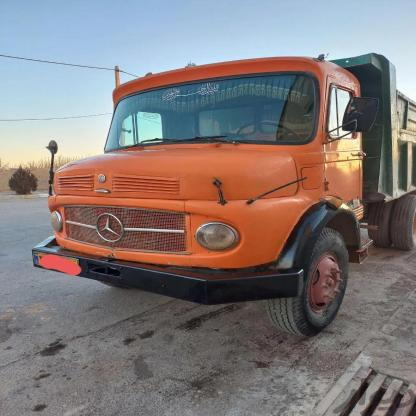Truck: (41, 48, 416, 330)
